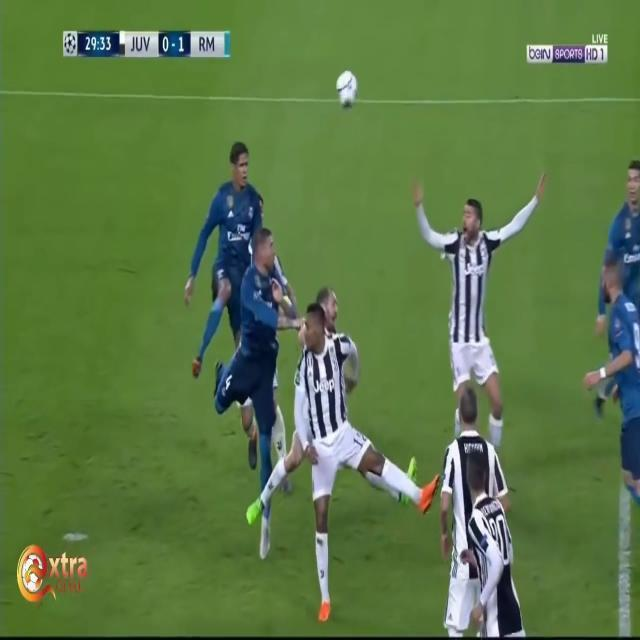ball: (333, 62, 361, 113)
player: (281, 293, 417, 607), (426, 167, 519, 541), (186, 132, 275, 414), (430, 381, 520, 626), (226, 214, 289, 522), (589, 246, 640, 590)
